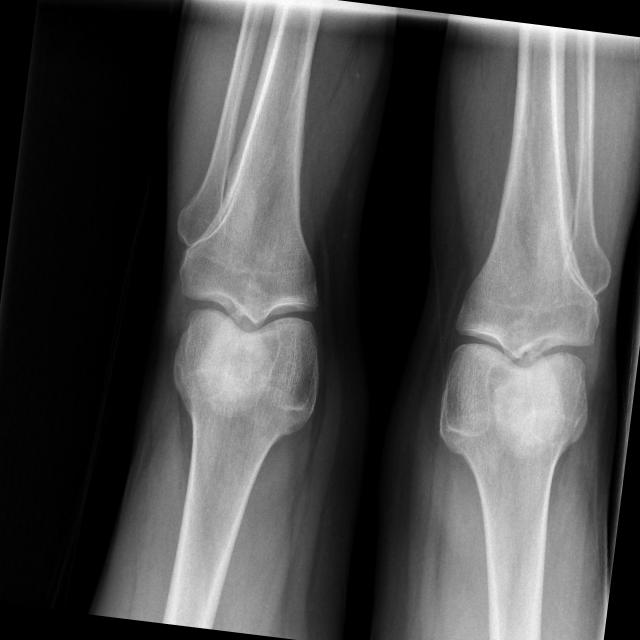Knee: (166, 242, 340, 394), (437, 275, 607, 427)
